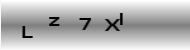7: (78, 16, 92, 31)
L: (21, 25, 35, 40)
X: (104, 17, 121, 33)
l: (118, 11, 124, 25)
z: (47, 16, 62, 27)
